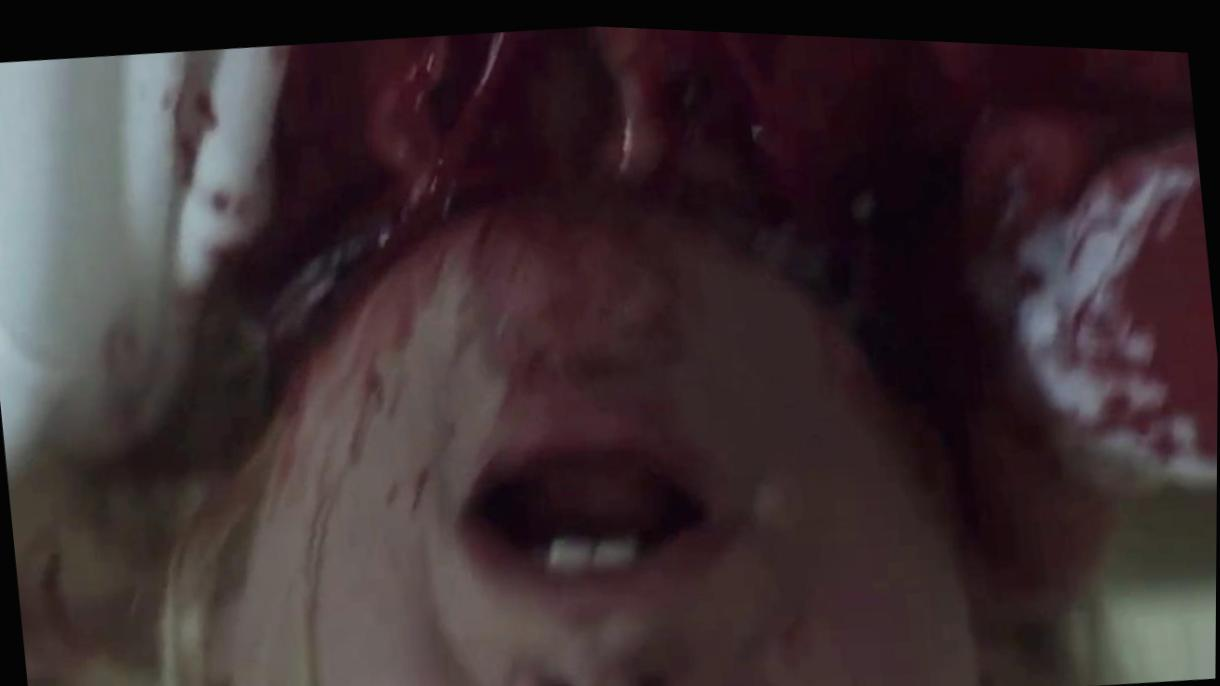Fire: (129, 21, 1218, 610), (412, 465, 429, 510)
